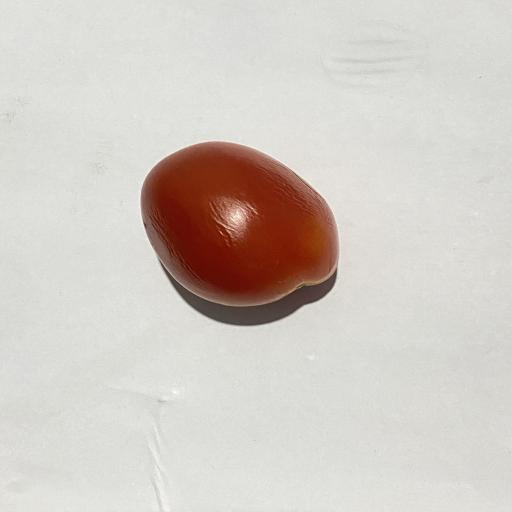spoiled: (141, 142, 339, 307)
